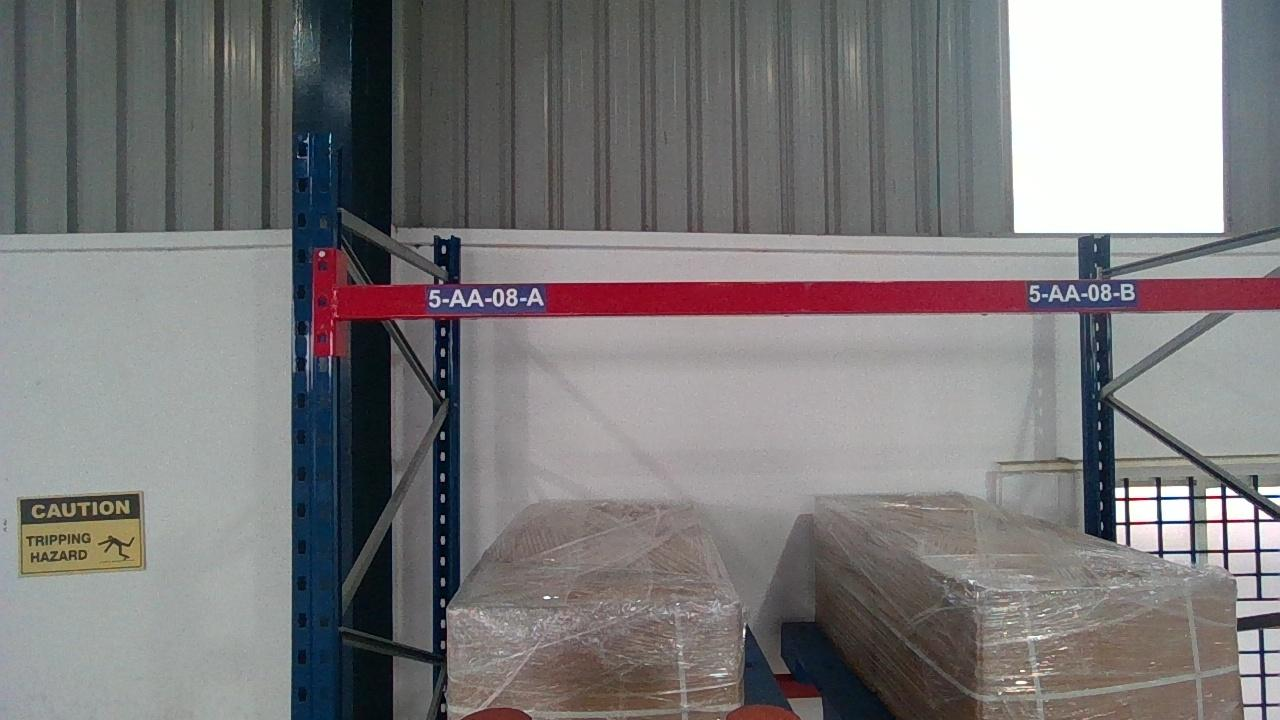h_rack: (337, 282, 1278, 313)
